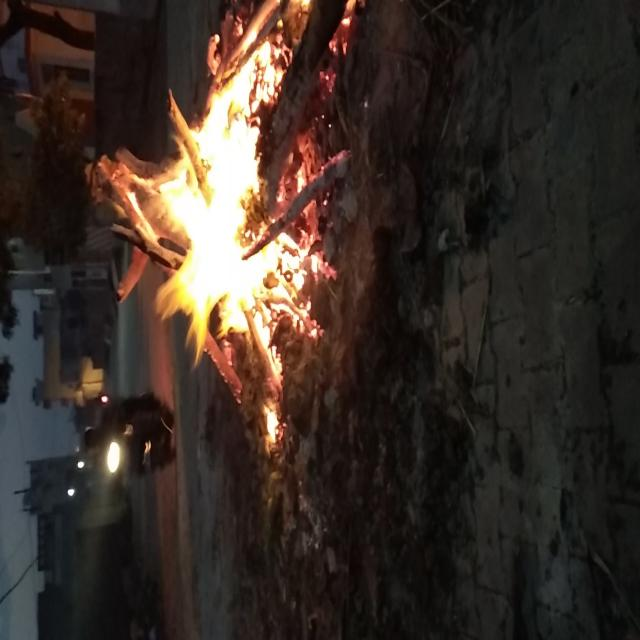fire: (134, 73, 310, 385)
